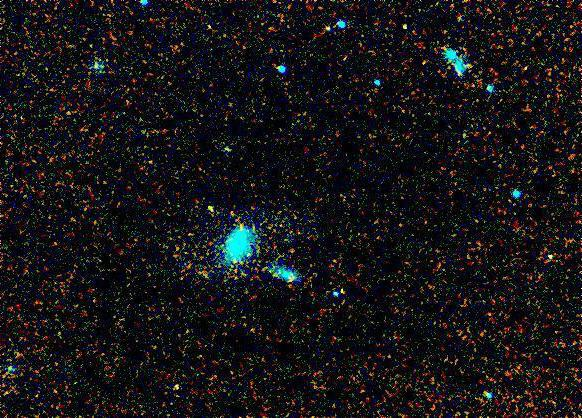star: (195, 190, 225, 220)
